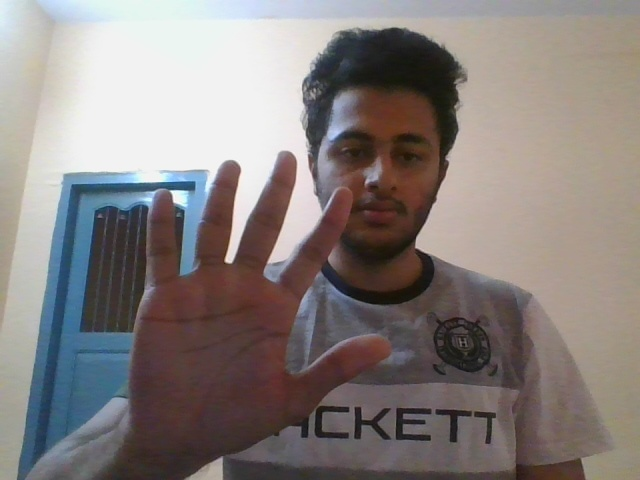Goodbye: (123, 148, 394, 454)
